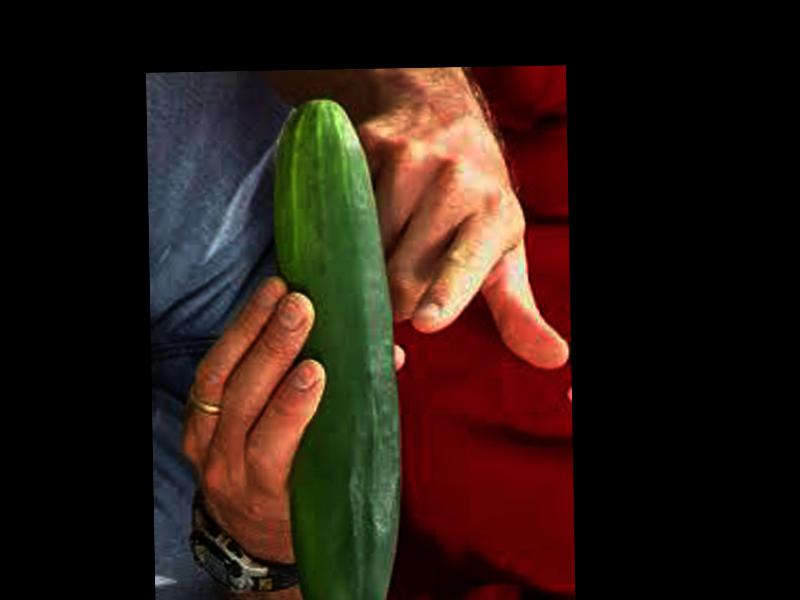Cucumber: (269, 96, 404, 600)
